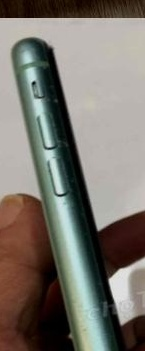scratch: (20, 46, 97, 255), (64, 291, 105, 351), (93, 277, 113, 299)
